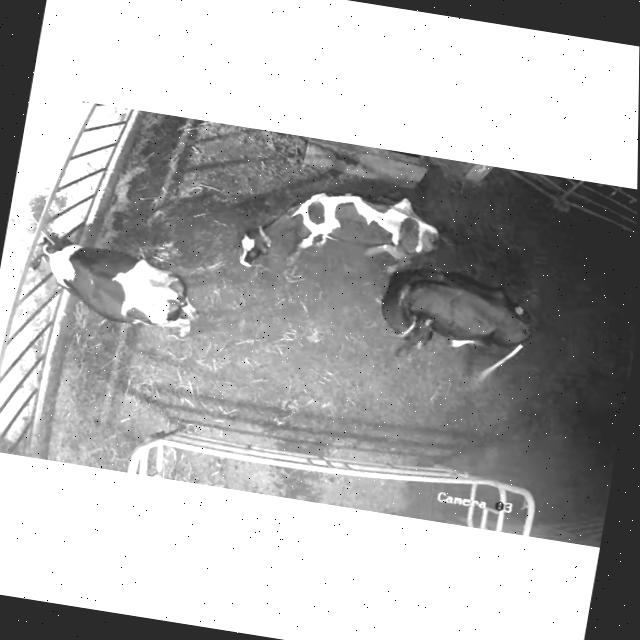stand: (381, 267, 530, 379), (239, 192, 440, 271)
